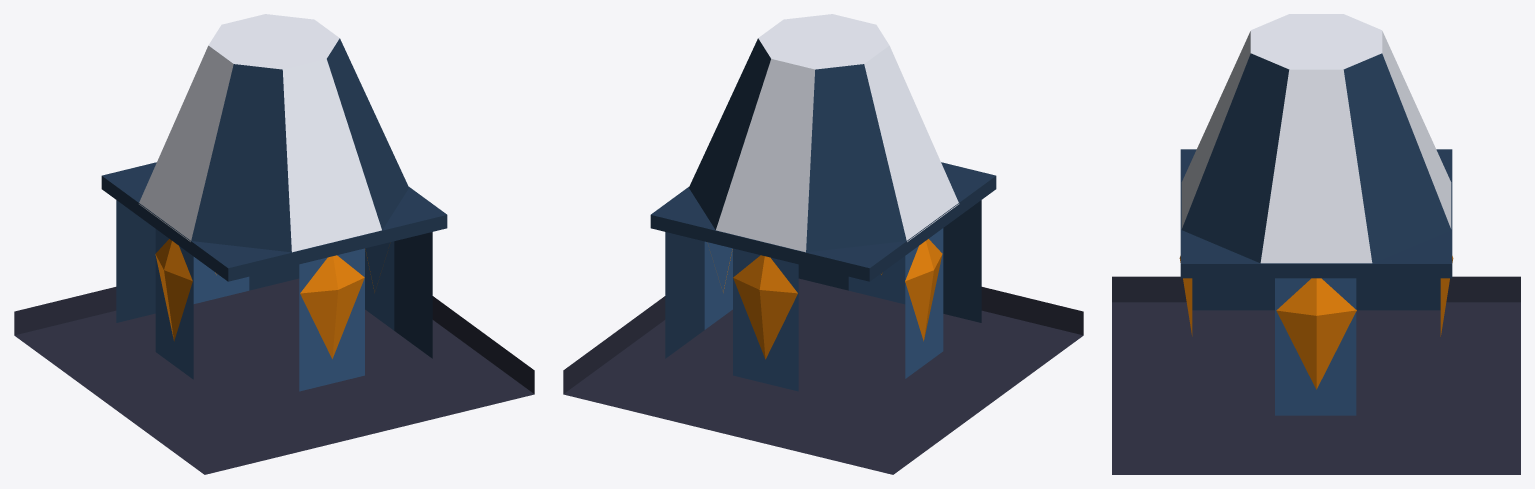
Rendered from 3D_TorreArciere.fbx.
The picture shows the model from 3 angles, left to right: view 1: azimuth 30°, elevation 25°; view 2: azimuth 150°, elevation 25°; view 3: azimuth 270°, elevation 25°; orthographic projection. The views are drawn at different scales.
Visible parts, largest first — view 1: Base, Colore Torre, Tetto, Strisce Torre, Torre, Plane.001, Gemme; view 2: Base, Colore Torre, Tetto, Strisce Torre, Torre, Plane.001, Gemme; view 3: Base, Colore Torre, Tetto, Plane.001, Strisce Torre, Torre, Gemme.
Boxes of the visible parts, x1,y1,x2,y2 form: Base: (14,278,534,474); Colore Torre: (139,14,381,252); Tetto: (191,38,408,252); Strisce Torre: (155,229,394,391); Torre: (116,200,432,358); Plane.001: (101,162,447,281); Gemme: (155,239,380,358); Base: (563,278,1083,474); Colore Torre: (716,14,959,252); Tetto: (689,38,906,252); Strisce Torre: (704,228,943,391); Torre: (665,200,981,358); Plane.001: (650,162,996,281); Gemme: (721,239,942,359); Base: (1112,276,1520,474); Colore Torre: (1181,14,1451,263); Tetto: (1181,53,1451,263); Plane.001: (1180,149,1452,278); Strisce Torre: (1275,278,1356,415); Torre: (1192,278,1440,310); Gemme: (1179,256,1453,389).
Bounding box in the file's own units: 255 × 239 × 255.
